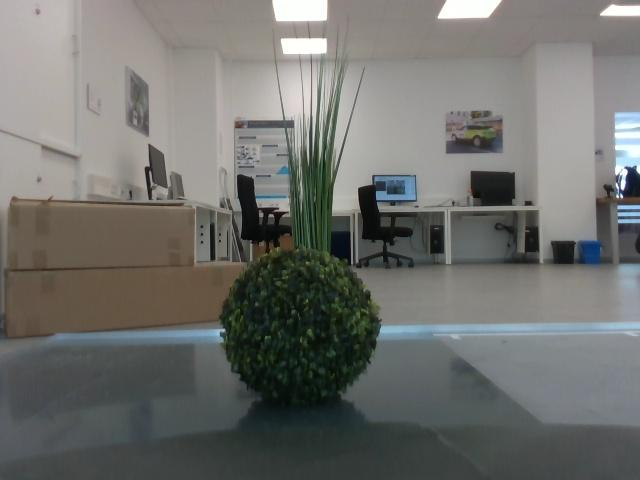potted plant: (220, 249, 380, 411), (274, 47, 365, 247)
